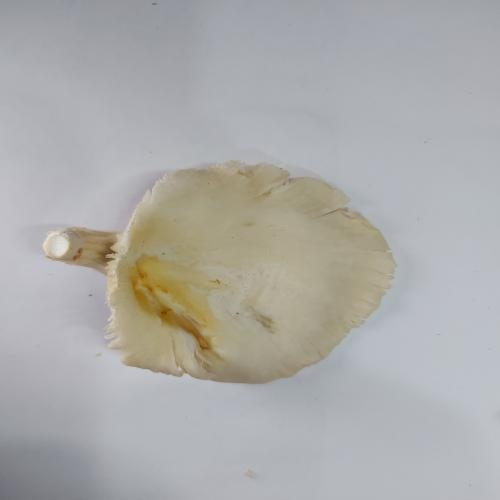Oyster Mushroom: (42, 159, 398, 385)
